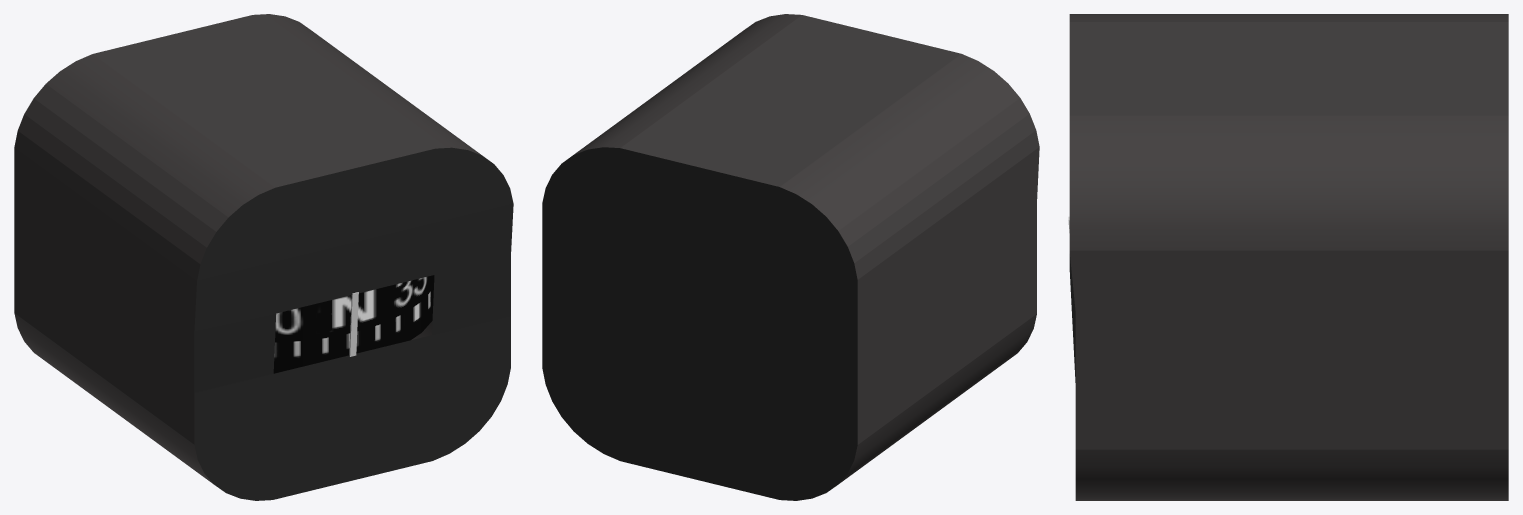
File: compass.glb
3 renders of one model, left to right at view 1: azimuth 30°, elevation 25°; view 2: azimuth 150°, elevation 25°; view 3: azimuth 270°, elevation 25°, orthographic. The views are drawn at different scales.
Parts seen in each view (by area): view 1: compass, compass_wheel; view 2: compass; view 3: compass.
Boxes of the visible parts, <box> form: compass: <box>14,14,513,500</box>; compass_wheel: <box>273,275,434,373</box>; compass: <box>542,14,1039,500</box>; compass: <box>1068,14,1508,500</box>.
Bounding box in the file's own units: 0.08 × 0.0759 × 0.0802.
Materials: 5 (1 with a texture image).
